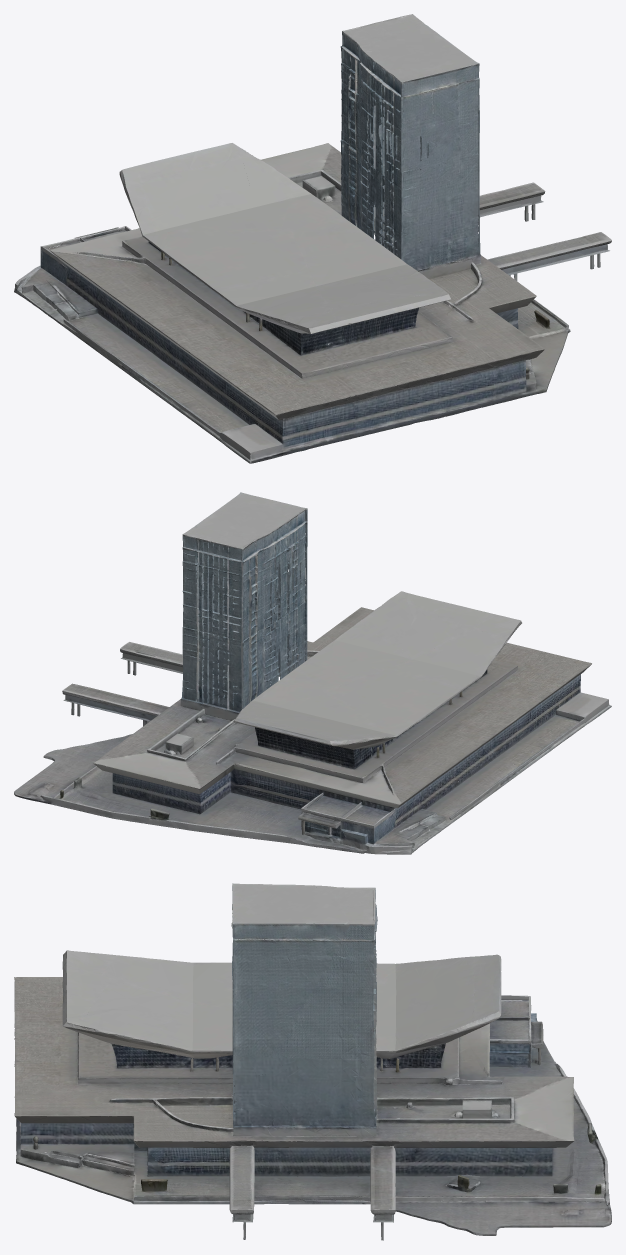
File: terminal.glb
The picture shows the model from 3 angles, top to bottom: view 1: azimuth 30°, elevation 25°; view 2: azimuth 150°, elevation 25°; view 3: azimuth 270°, elevation 25°; orthographic projection. The views are drawn at different scales.
Visible parts, largest first — view 1: tripo_node_53a5d50e-fbb4-4799-936a-efaef6d6c3f4; view 2: tripo_node_53a5d50e-fbb4-4799-936a-efaef6d6c3f4; view 3: tripo_node_53a5d50e-fbb4-4799-936a-efaef6d6c3f4.
Boxes of the visible parts, box(x1,y1,x2,y2) form: tripo_node_53a5d50e-fbb4-4799-936a-efaef6d6c3f4: box(14, 14, 611, 463); tripo_node_53a5d50e-fbb4-4799-936a-efaef6d6c3f4: box(14, 492, 611, 854); tripo_node_53a5d50e-fbb4-4799-936a-efaef6d6c3f4: box(14, 883, 611, 1240).
Size of the model in its own units: 230 by 117 by 244.
1 material, 1 textured.
